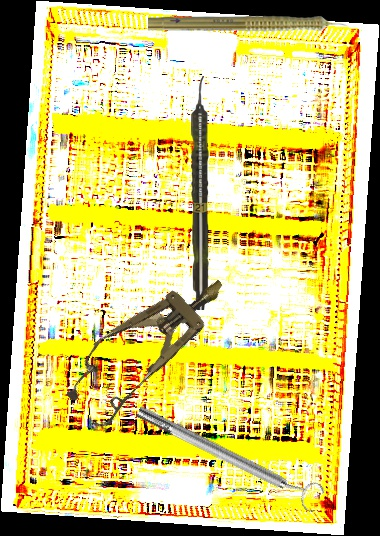Fixation Ring: (131, 394, 327, 517)
Handpiece: (148, 13, 359, 39), (191, 76, 210, 310)
Speculum: (53, 254, 245, 436)
